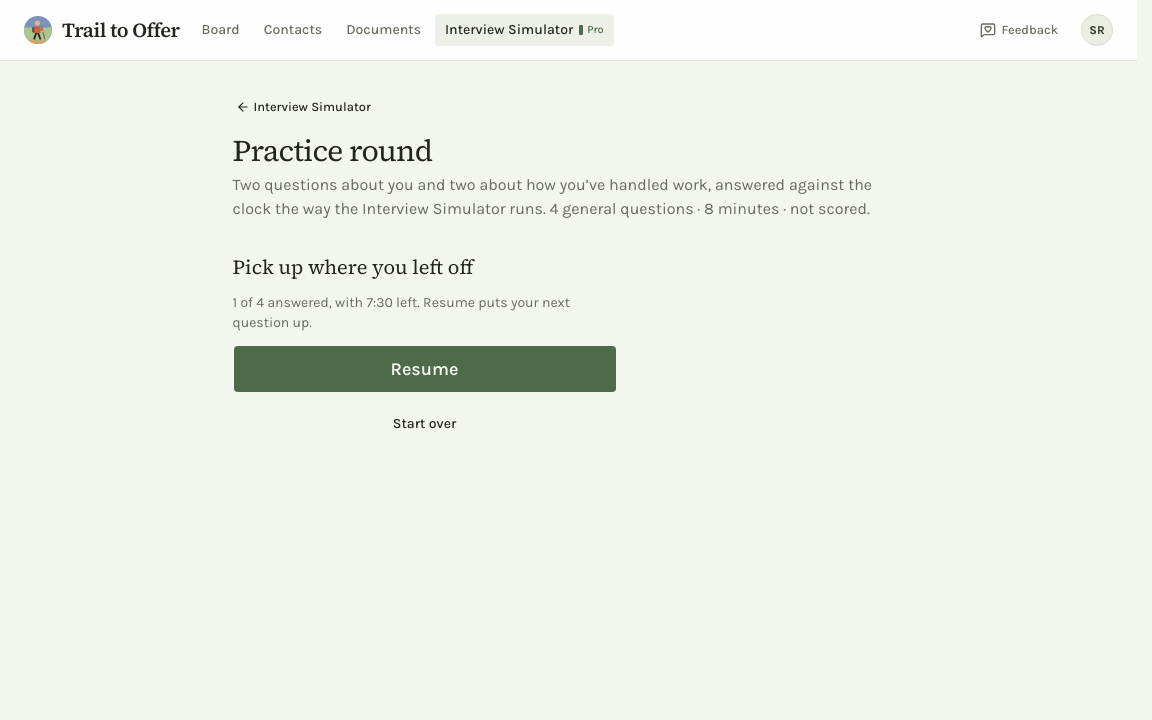
Test: taking a Practice round (practice round ticket 03) › PR-U6: an unfinished round says where it got to; Resume picks it up, and Start over begins a fresh one
The width and height of the screenshot is (1152, 720).
Check: the text "1 of 4 answered, with 7:30 left" is shown, box [232,293,616,333]
Click the button "Start over": (424,424) [232,405,616,443]
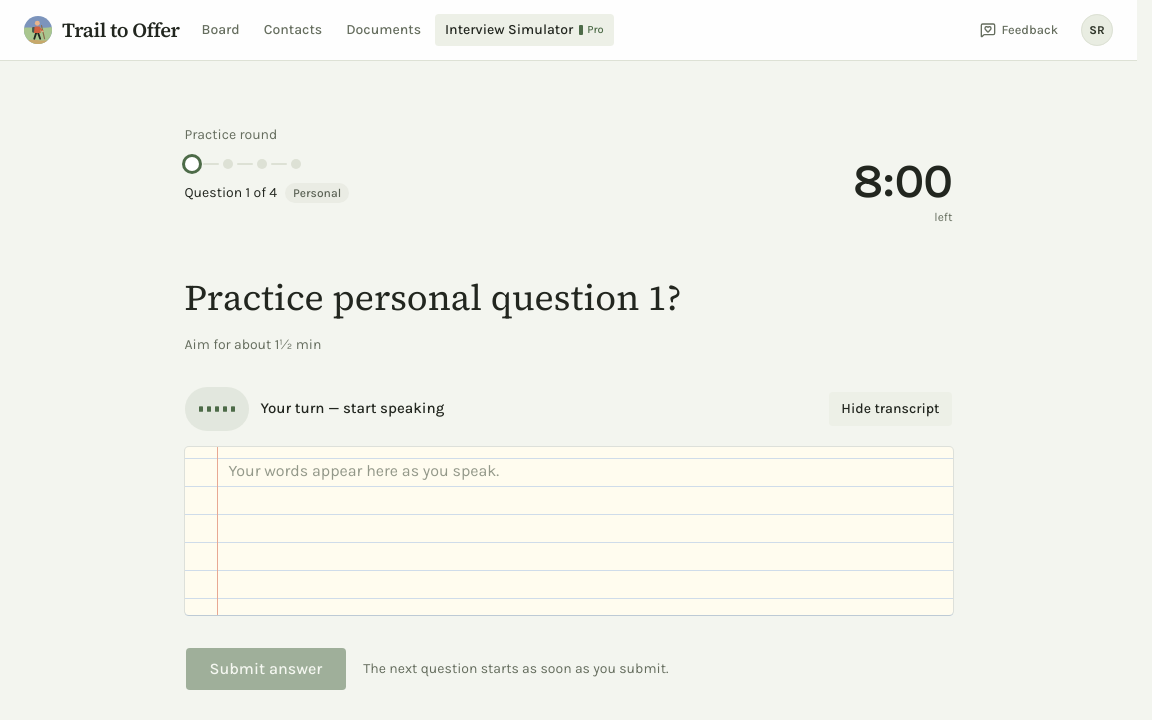
Check: the heading "Practice personal question 1?" is shown, box [184,273,682,322]
Check: the element showing "8:00 left" is shown, box [854,157,952,225]
